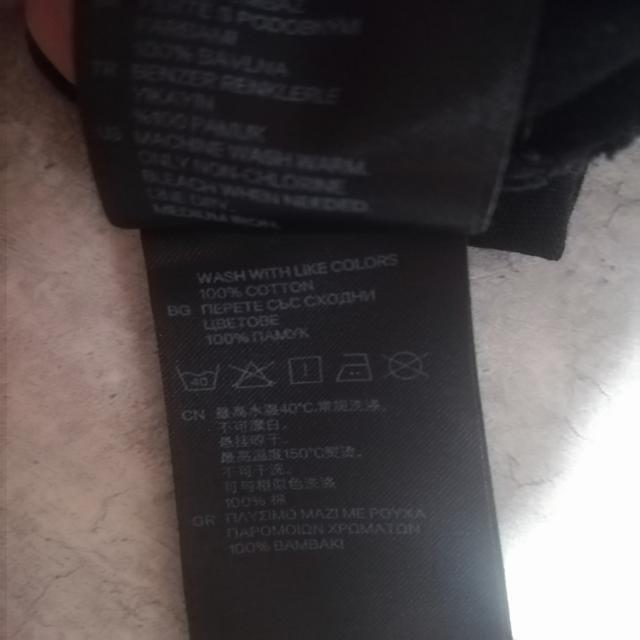40C: (178, 357, 224, 394)
DN_bleach: (231, 356, 279, 395)
DN_dry_clean: (379, 346, 434, 386)
iron_medium: (334, 350, 376, 388)
